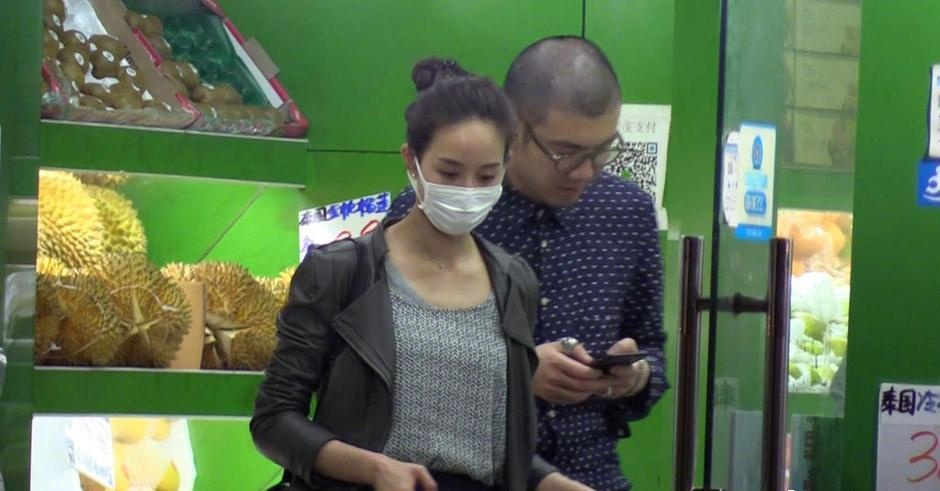Mask: (417, 145, 505, 232)
